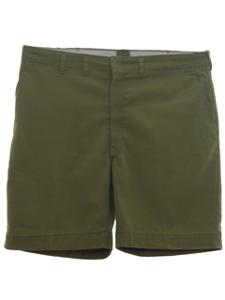C_shorts: (4, 37, 224, 263)
